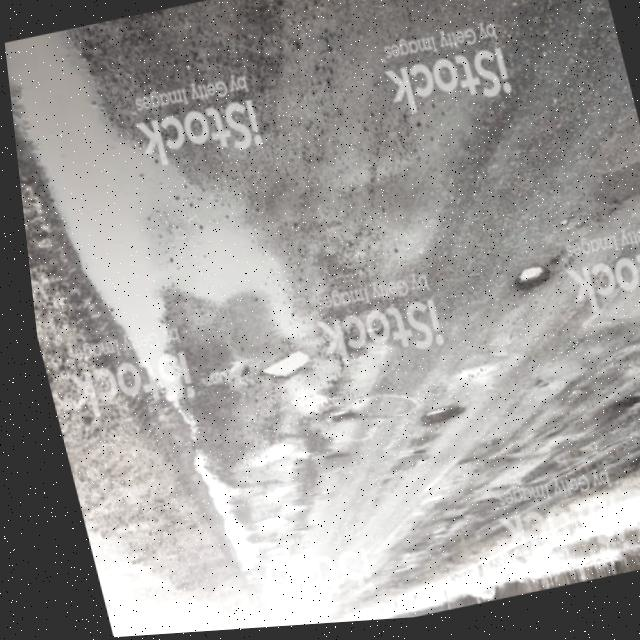Pothole: (252, 346, 316, 398), (498, 264, 550, 309), (409, 407, 450, 434), (315, 404, 345, 430)
